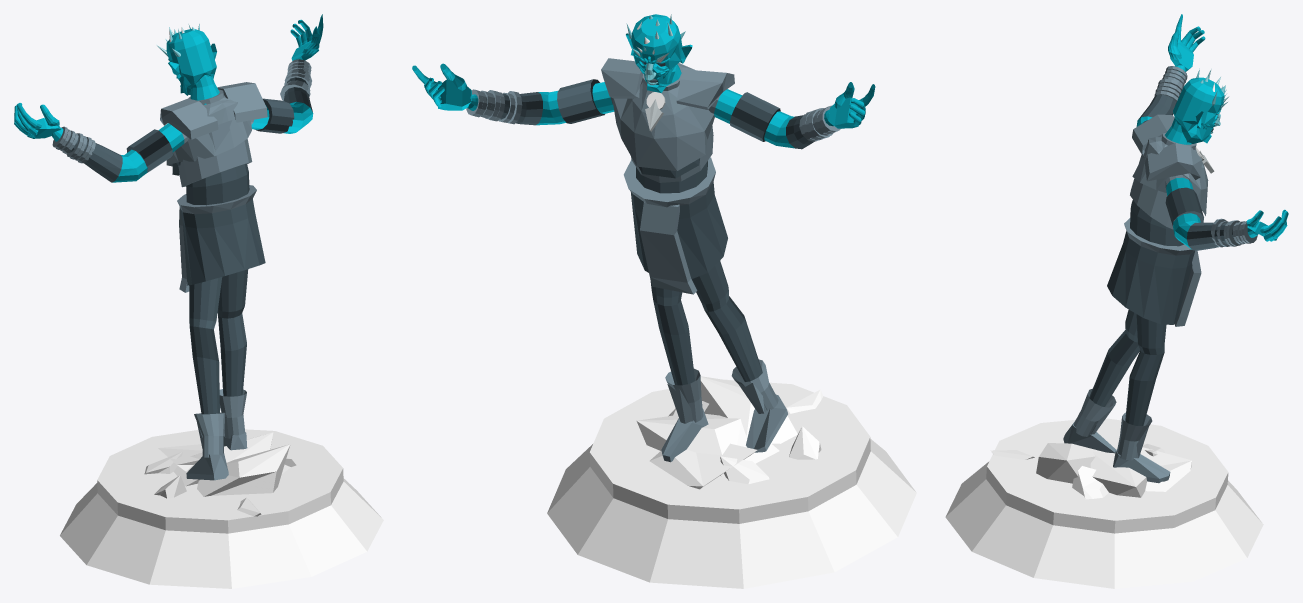
Rendered from NightKing.obj.
3 views of the same model, side by side, from view 1: azimuth 30°, elevation 25°; view 2: azimuth 150°, elevation 25°; view 3: azimuth 270°, elevation 25° (orthographic). The views are drawn at different scales.
Visible parts, largest first — view 1: model_Mesh2; view 2: model_Mesh2; view 3: model_Mesh2.
Part boxes in pixels (<box>): model_Mesh2: <box>14,14,383,588</box>; model_Mesh2: <box>412,14,916,588</box>; model_Mesh2: <box>945,14,1288,588</box>.
Bounding box in the file's own units: 2.13 × 2.7 × 1.81.
